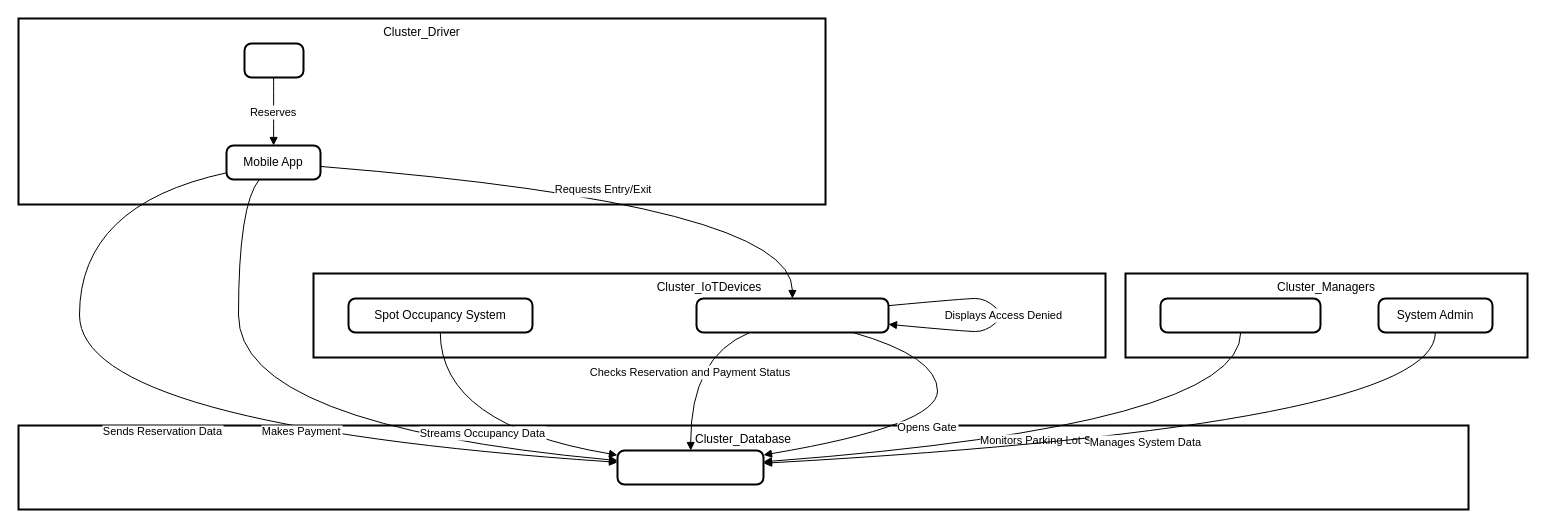
The diagram is 1545 pixels wide and 527 high, and some of its shapes have lost their labels. Here are the shapes that lost their labels. From the top down, the centre of each, then its label:
At [273,60]: "Driver".
At [792,315]: "Gate Automation System".
At [1240,315]: "Parking Lot Manager".
At [690,467]: "Firebase Database".
